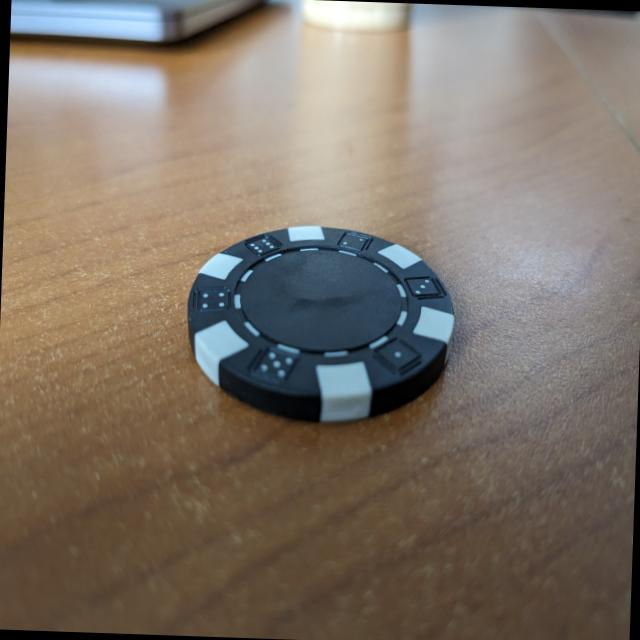black chip: (186, 225, 455, 425)
